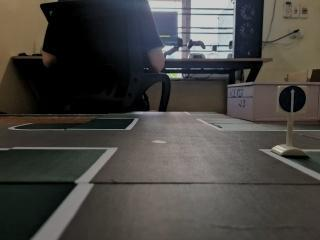straight: (278, 83, 307, 115)
